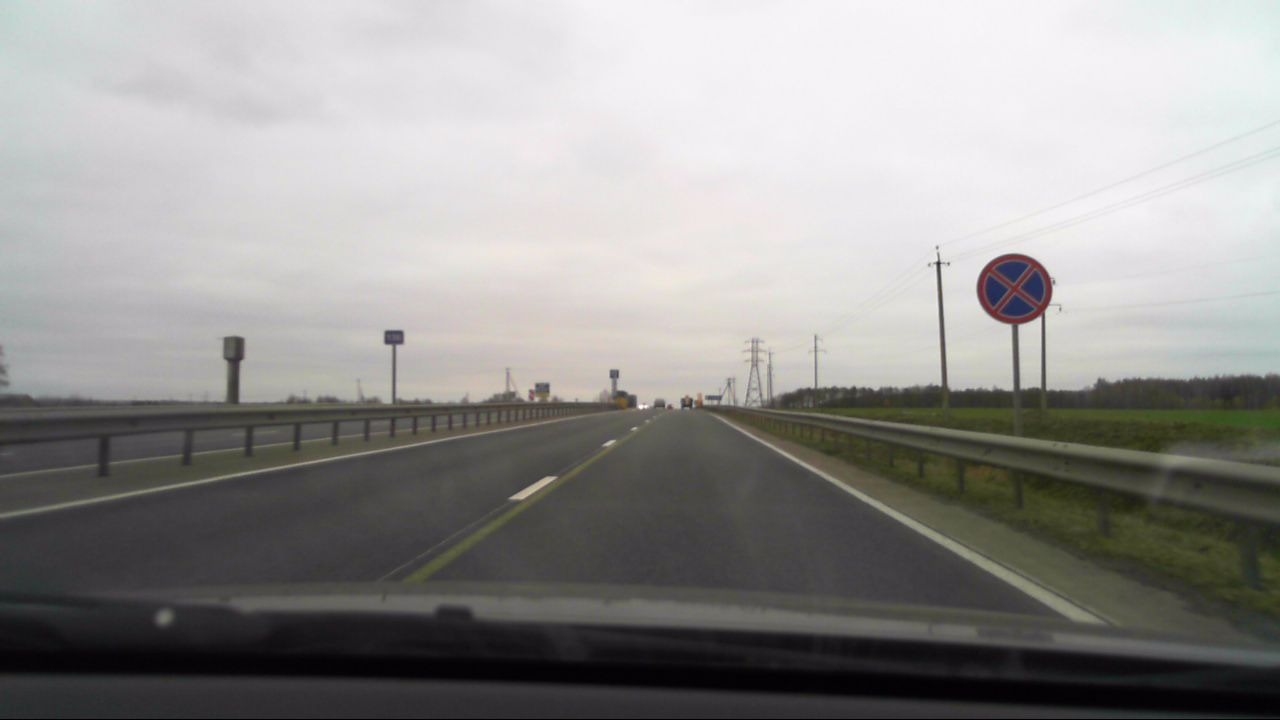No Parking: (975, 251, 1050, 326)
